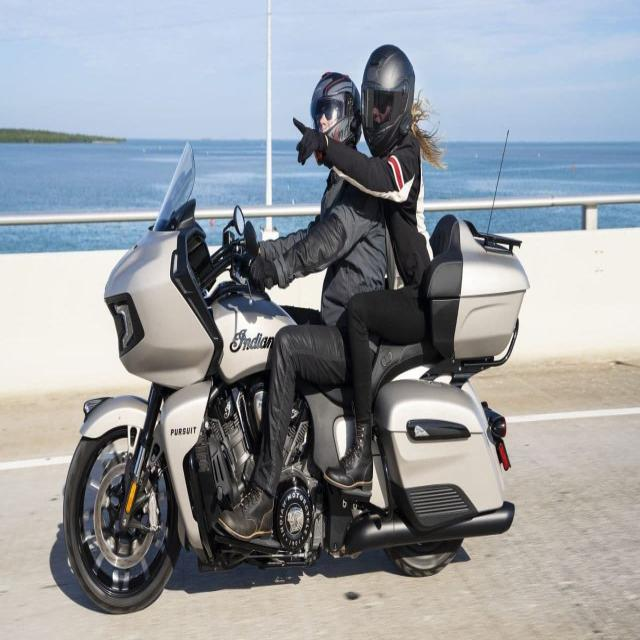motorcycle: (64, 45, 529, 612)
